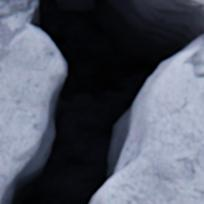broken_brick: (92, 36, 203, 203), (0, 25, 64, 198)
crack: (0, 0, 203, 203)
